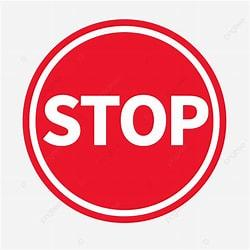Stop: (23, 20, 224, 217)
